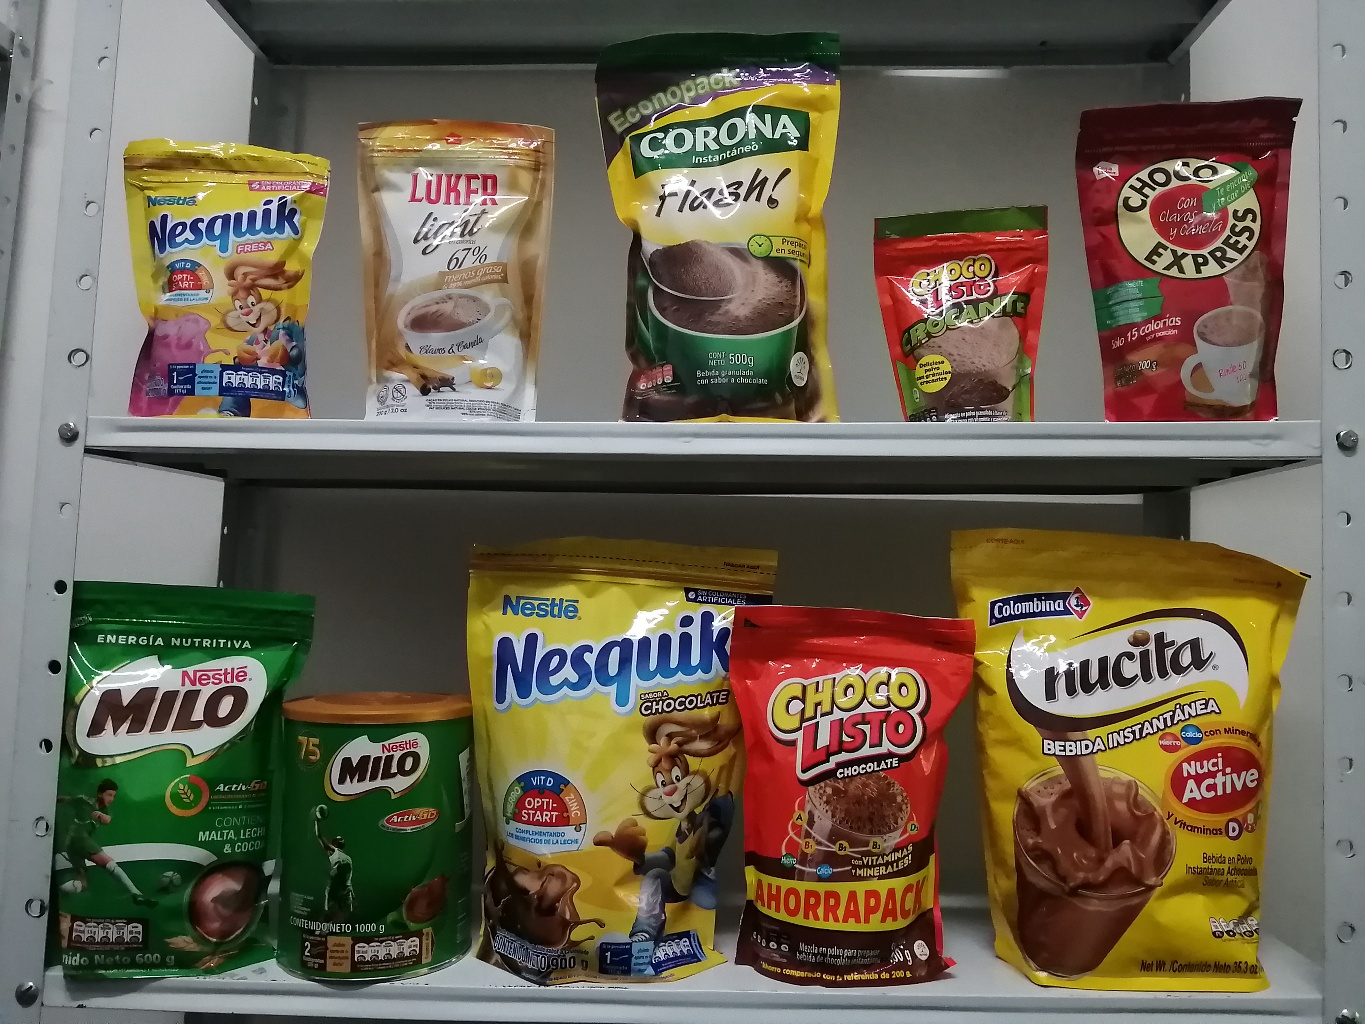COL0170102DYP10000: (871, 187, 1066, 423)
COL0170103DYP40000: (709, 592, 1003, 997)
COL0170305DYP20000: (93, 118, 333, 433)
